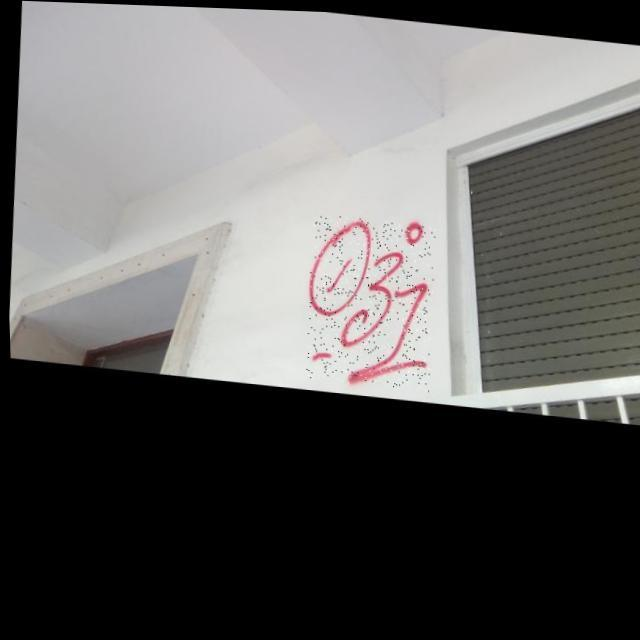-: (300, 210, 438, 388)
